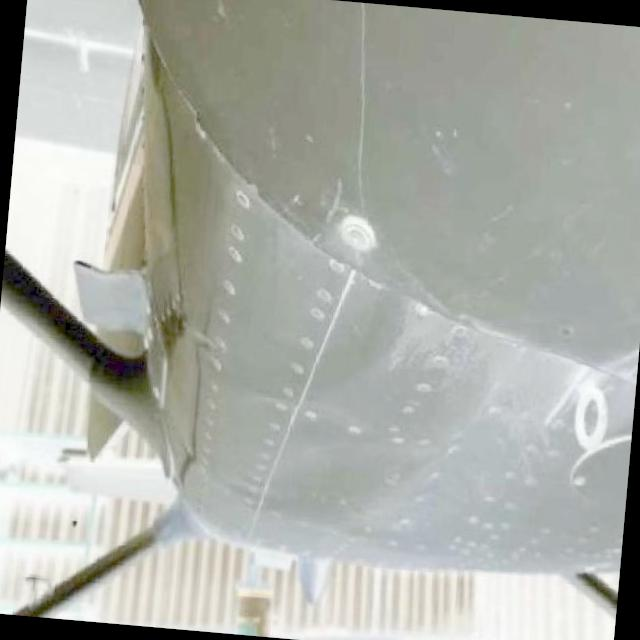dent: (236, 240, 406, 403)
